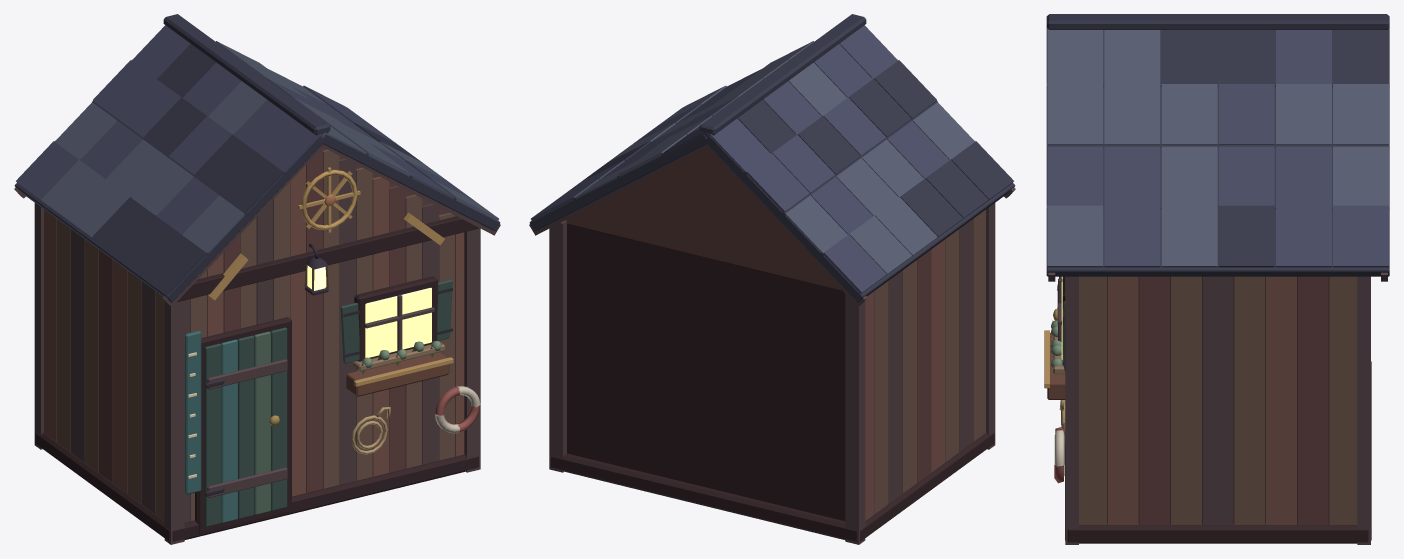
Rendered from harbour_hut.glb.
3 views of the same model, side by side, from view 1: azimuth 30°, elevation 25°; view 2: azimuth 150°, elevation 25°; view 3: azimuth 270°, elevation 25° (orthographic). The views are drawn at different scales.
Parts seen in each view (by area): view 1: harbour_hut; view 2: harbour_hut; view 3: harbour_hut.
Boxes of the visible parts, <box> form: harbour_hut: <box>14,14,500,544</box>; harbour_hut: <box>529,14,1015,544</box>; harbour_hut: <box>1044,14,1389,544</box>.
Size of the model in its own units: 2.59 by 2.88 by 2.06.
